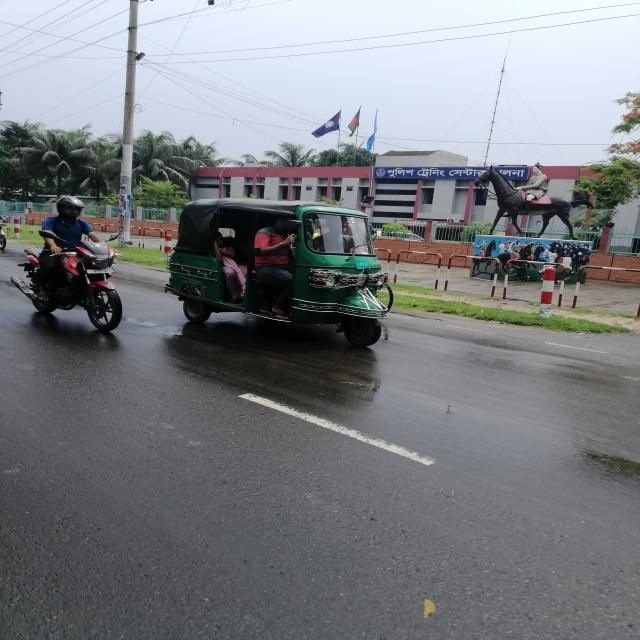CNG: (155, 181, 460, 380)
Motorbike: (1, 225, 152, 358)
